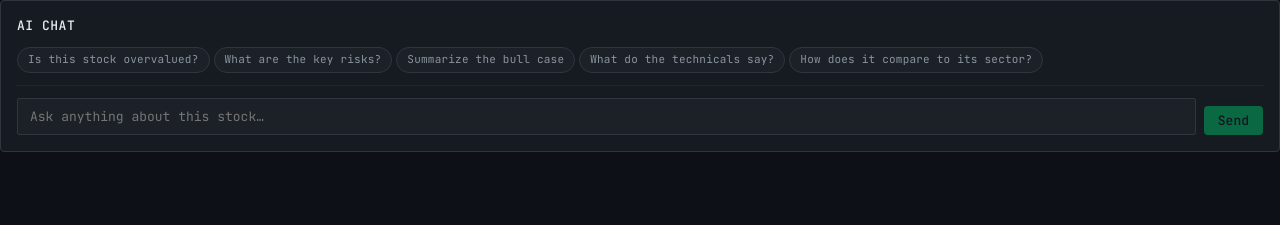
AIChatPanel — multi-turn & session management › AC-3: Clear button appears after first message is sent
Click the button "What are the key risks?" at (303,60), box [214,47,392,73]
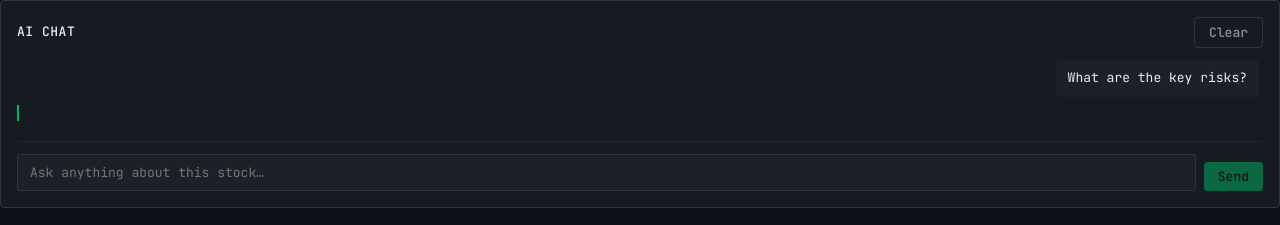
expect the button "Clear" is shown: met, box [1194,17,1263,48]
